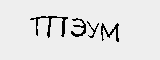М: (98, 22, 125, 43)
П: (46, 12, 67, 41)
Т: (27, 12, 47, 39)
У: (83, 19, 98, 41)
Э: (67, 15, 86, 40)
